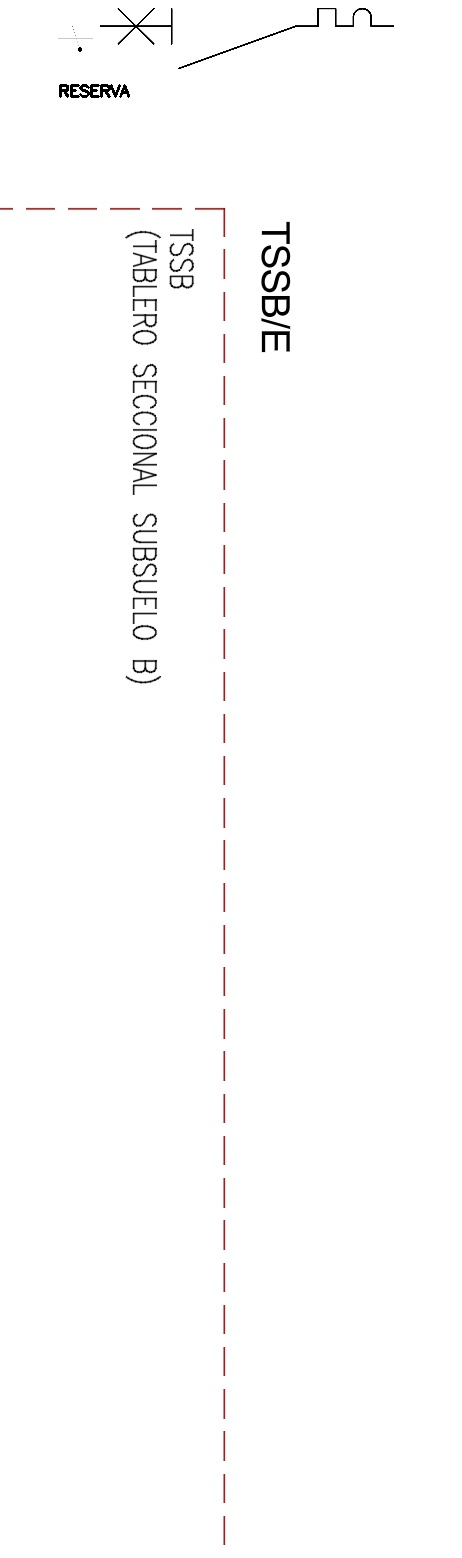interruptor_termomagnetico: (92, 1, 400, 76)
